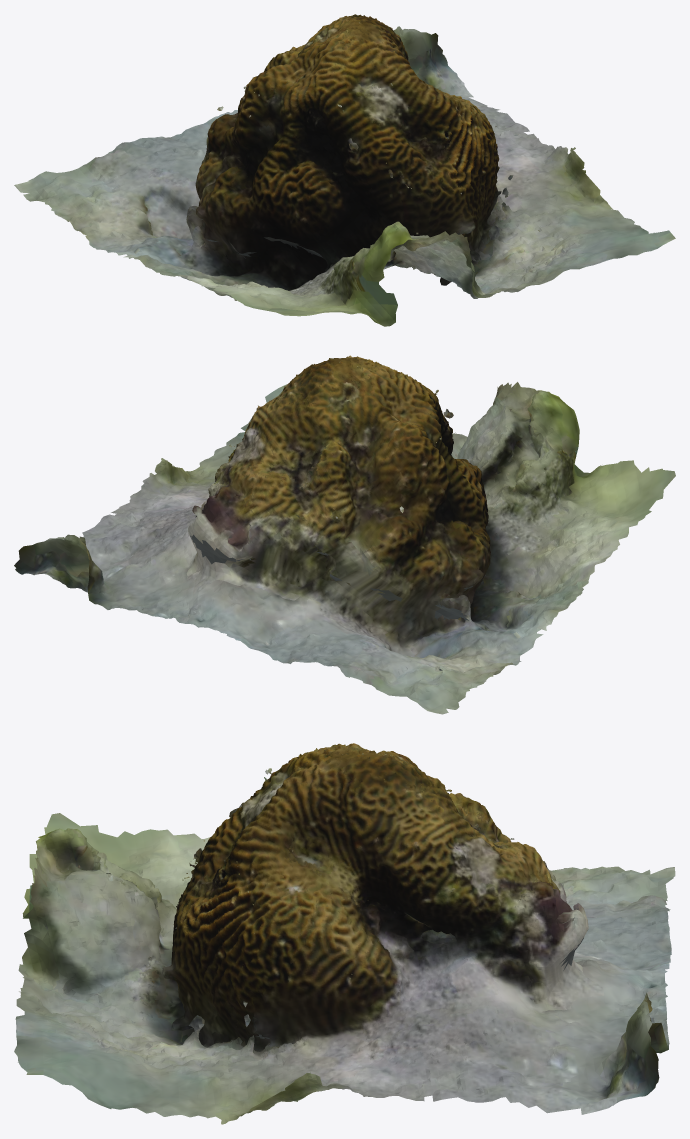
Rendered from platygyra_daedalea.glb.
The picture shows the model from 3 angles, top to bottom: view 1: azimuth 30°, elevation 25°; view 2: azimuth 150°, elevation 25°; view 3: azimuth 270°, elevation 25°; orthographic projection. The views are drawn at different scales.
Bounding box in the file's own units: 9.26 × 4.78 × 9.84.
Materials: 1 (1 with a texture image).
